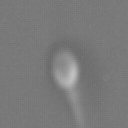normal: (59, 86, 95, 128)
